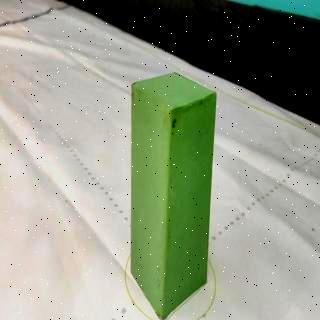greenbox: (130, 69, 218, 320)
